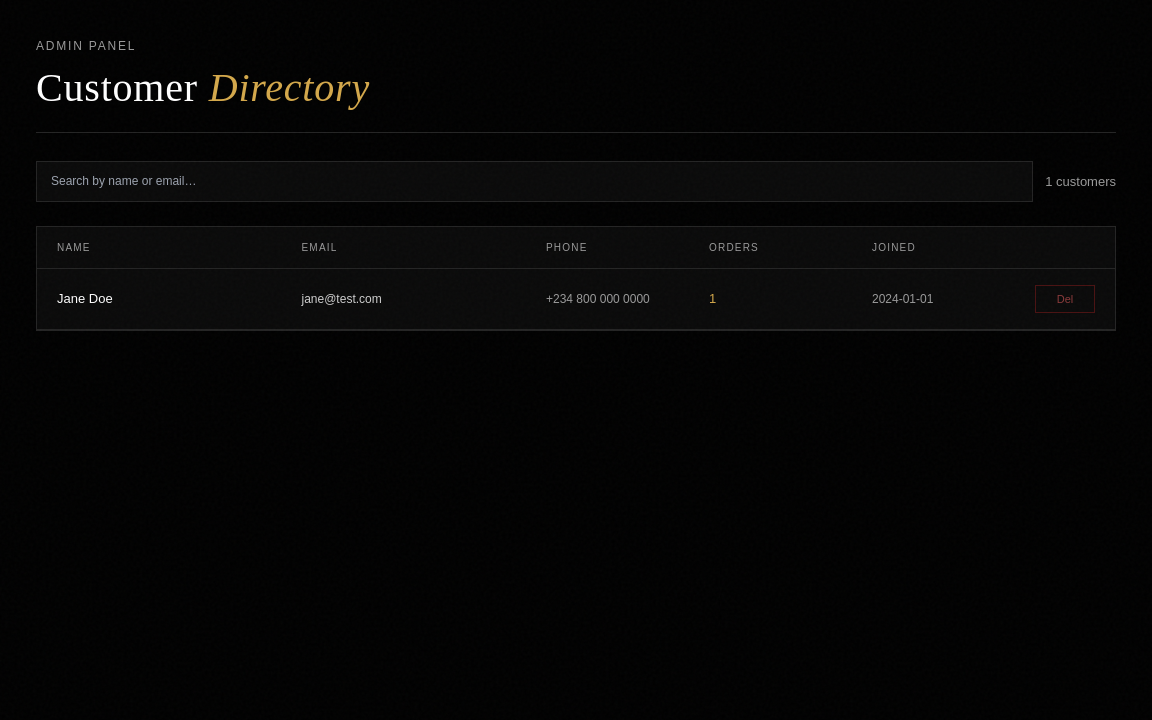
Test: AdminCustomersContent › opens confirmation modal when Del button is clicked
Step 1. Click the button with test id "delete-user-u1" → point(1065, 299), box [1035,285,1095,314]
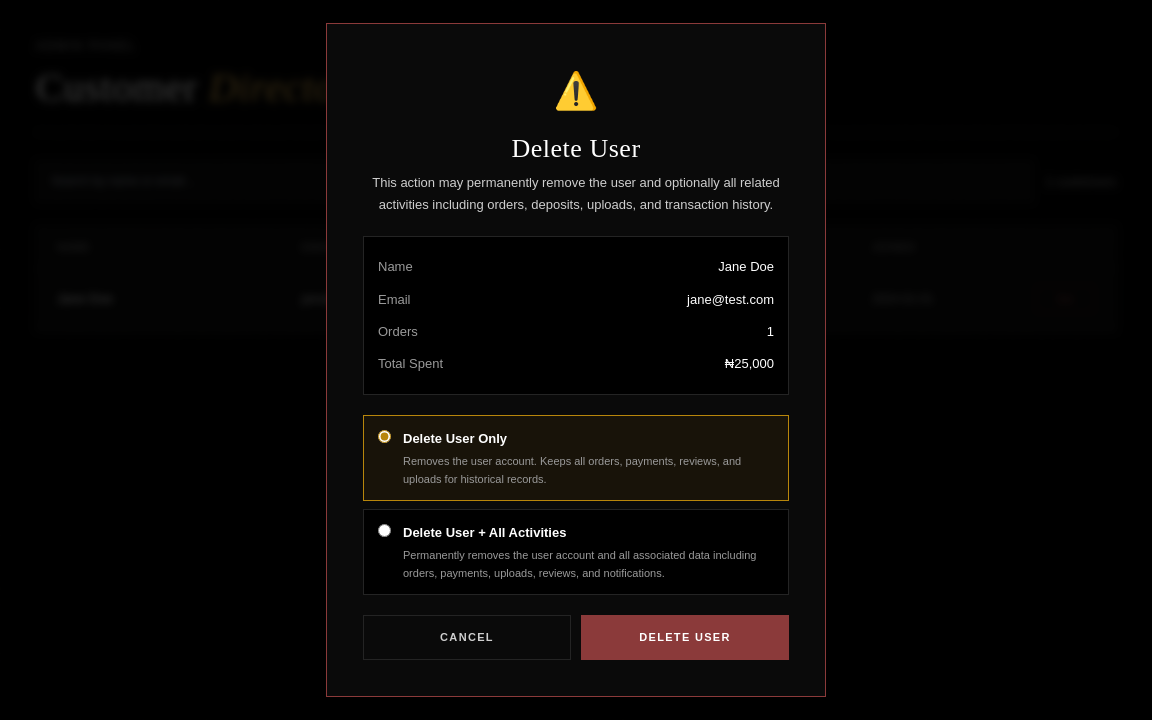
Now the dialog with test id "confirm-delete-modal" is shown
